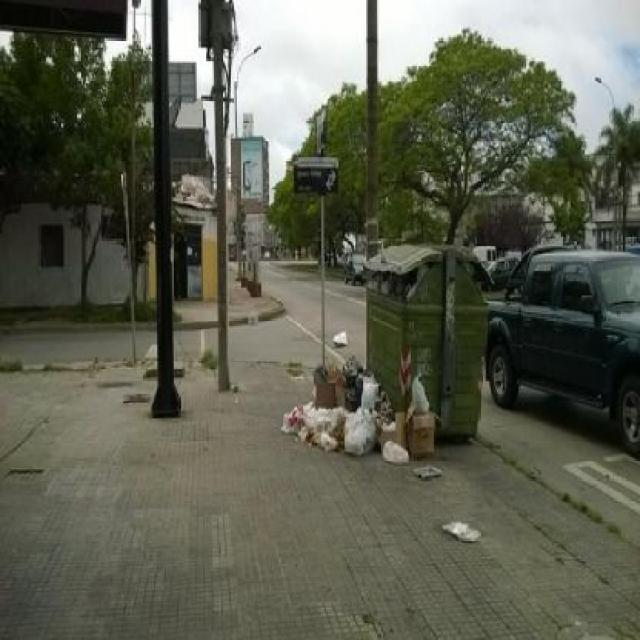garbage: (280, 368, 373, 470), (378, 411, 440, 476), (370, 272, 419, 304), (437, 514, 478, 552), (374, 385, 401, 440), (326, 320, 351, 360)
